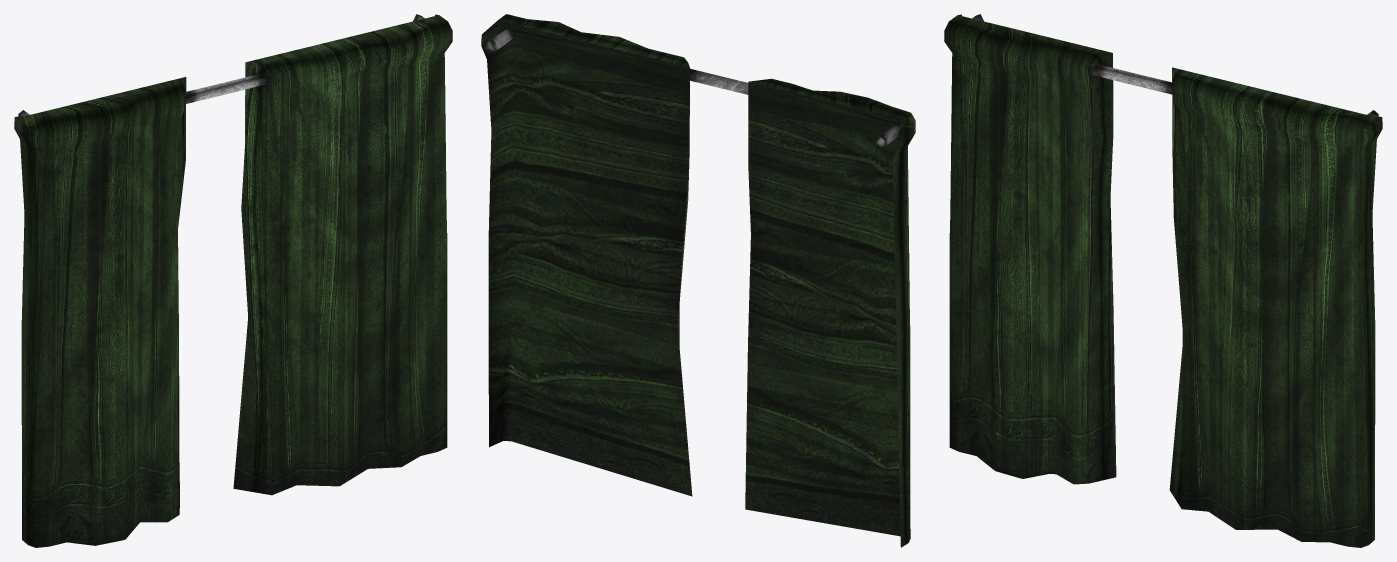
File: curtain03_partly_closed.DAE
The picture shows the model from 3 angles, left to right: view 1: azimuth 30°, elevation 25°; view 2: azimuth 150°, elevation 25°; view 3: azimuth 330°, elevation 25°; orthographic projection.
Visible parts, largest first — view 1: curtain03_partly_closed; view 2: curtain03_partly_closed; view 3: curtain03_partly_closed.
Boxes of the visible parts, x1,y1,x2,y2 form: curtain03_partly_closed: [14, 14, 452, 547]; curtain03_partly_closed: [481, 14, 915, 547]; curtain03_partly_closed: [944, 14, 1382, 547].
Bounding box in the file's own units: 3.74 × 0.508 × 3.68.
